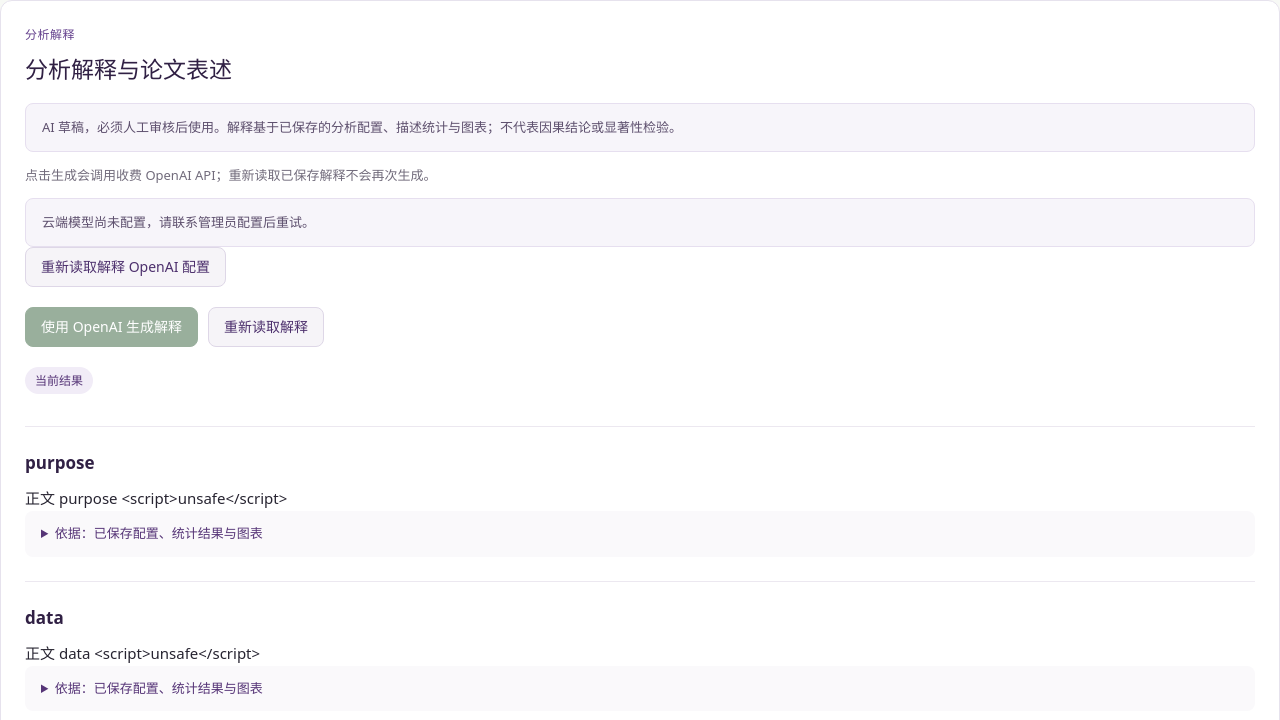
missing key keeps cached explanation readable and configuration reload available
This screenshot has width=1280, height=720.
Expected: the button "使用 OpenAI 生成解释" is disabled, [25,307,198,347]
Click the button "重新读取解释 OpenAI 配置": x=126, y=267 [25,247,226,287]
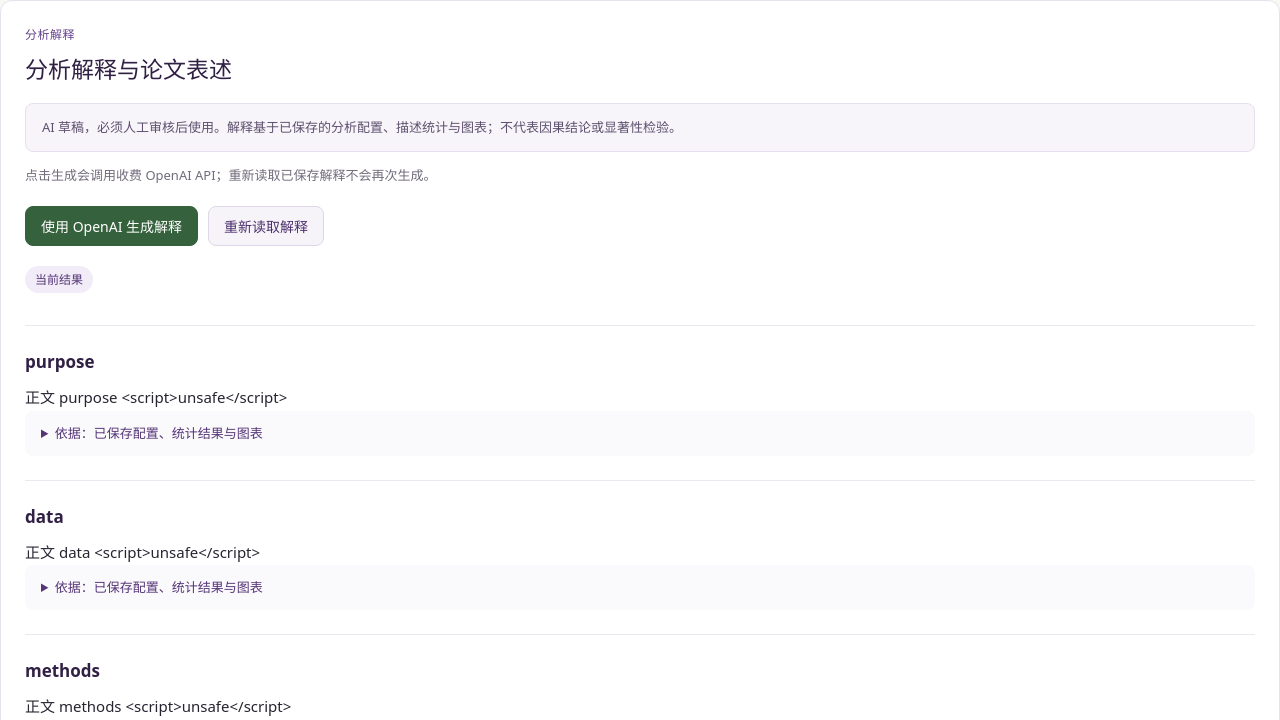
Expected: the button "使用 OpenAI 生成解释" is enabled, [25,206,198,246]
